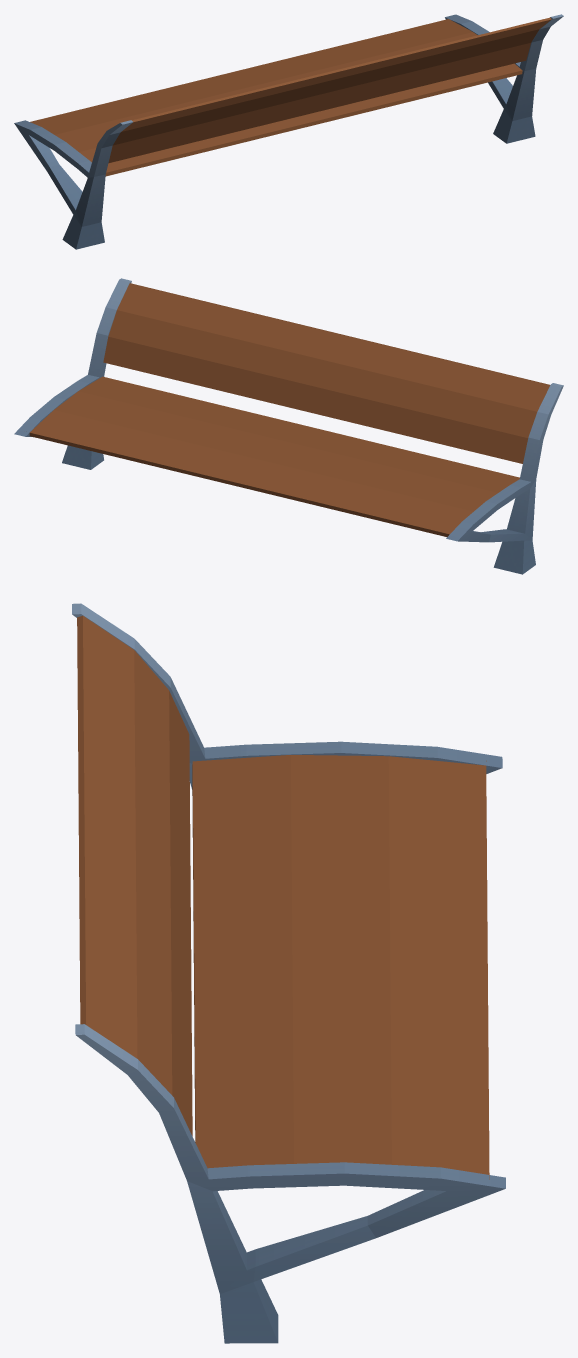
File: Banc.fbx
The picture shows the model from 3 angles, top to bottom: view 1: azimuth 30°, elevation 25°; view 2: azimuth 150°, elevation 25°; view 3: azimuth 270°, elevation 25°; orthographic projection. The views are drawn at different scales.
Visible parts, largest first — view 1: M.Banc.Jardin.Mairie.bois.005; view 2: M.Banc.Jardin.Mairie.bois.005; view 3: M.Banc.Jardin.Mairie.bois.005.
Part boxes in pixels (box(x1,y1,x2,y2)): M.Banc.Jardin.Mairie.bois.005: box(14, 14, 563, 249); M.Banc.Jardin.Mairie.bois.005: box(14, 278, 563, 574); M.Banc.Jardin.Mairie.bois.005: box(72, 603, 505, 1343).
Size of the model in its own units: 395 by 123 by 161.
